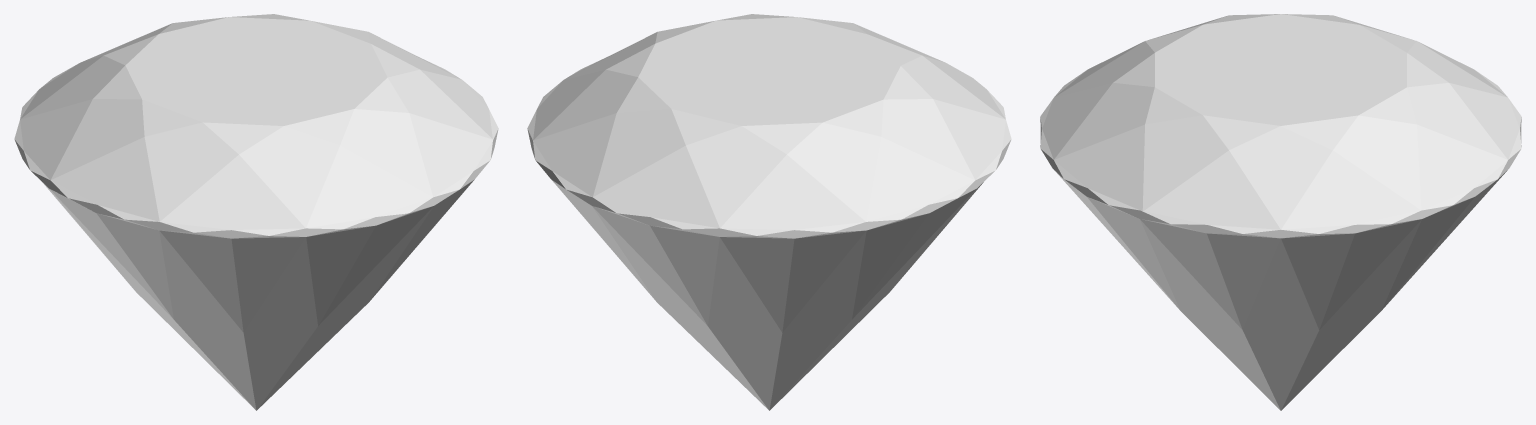
The model's file is GreyChaosEmerald.obj.
3 renders of one model, left to right at view 1: azimuth 30°, elevation 25°; view 2: azimuth 150°, elevation 25°; view 3: azimuth 270°, elevation 25°, orthographic.
Visible parts, largest first — view 1: emerald_6; view 2: emerald_6; view 3: emerald_6.
Part boxes in pixels (bbox=[...]): emerald_6: bbox=[14, 14, 498, 410]; emerald_6: bbox=[527, 14, 1011, 410]; emerald_6: bbox=[1040, 14, 1521, 410].
Size of the model in its own units: 0.0262 by 0.0205 by 0.0262.
